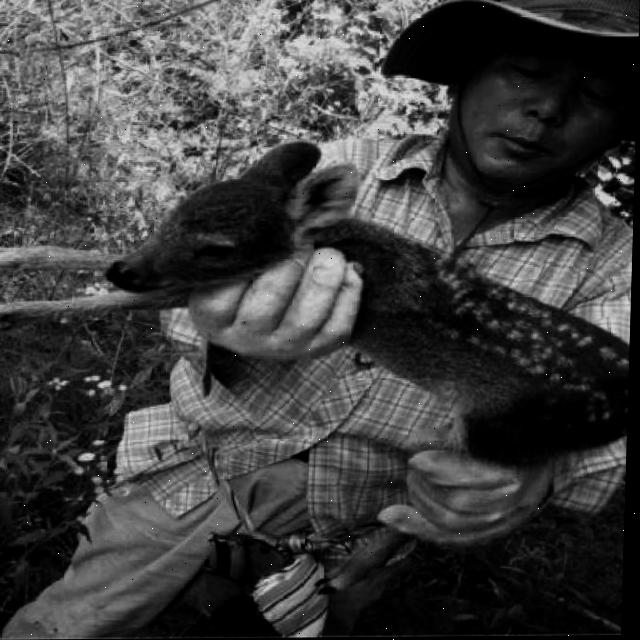Deer: (82, 138, 635, 502)
